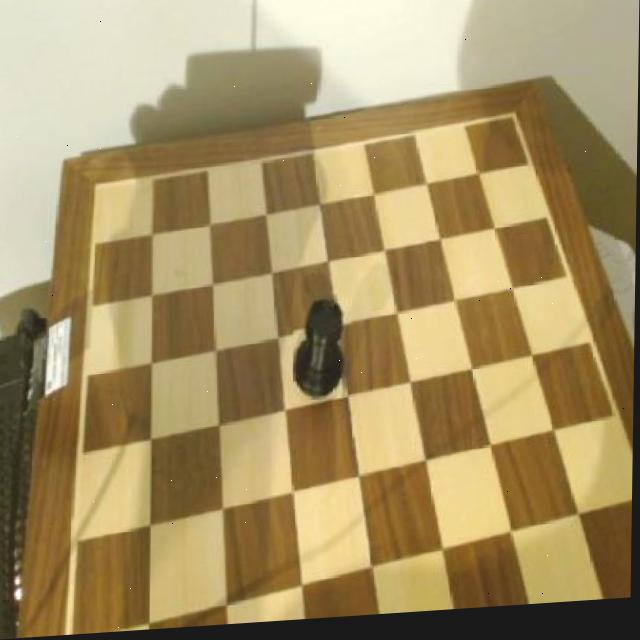black-queen: (291, 297, 352, 407)
